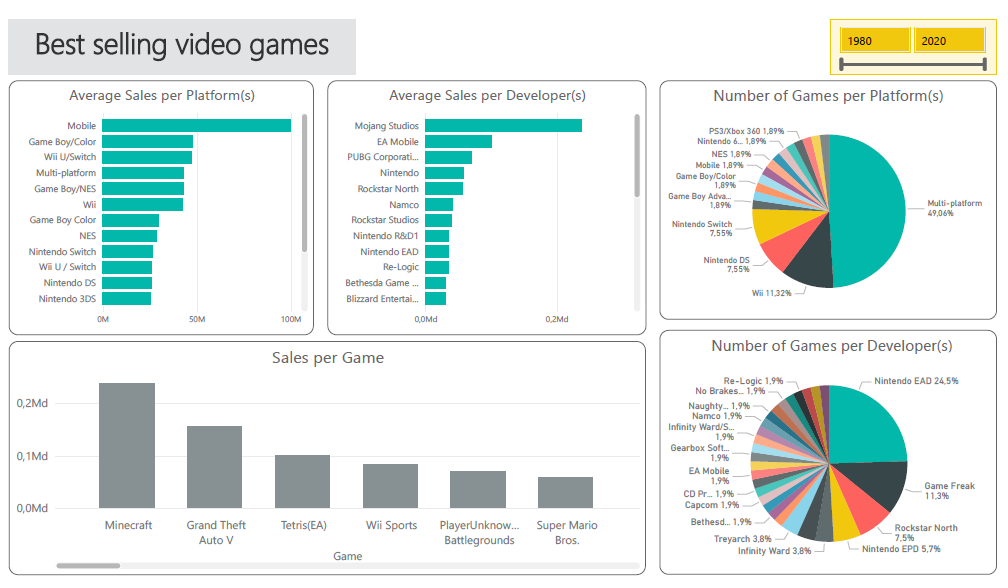

What the dashboard file says about the page in this screenshot:
{"tool":"powerbi","page":{"name":"Page 1","canvas":[1280,720],"ordinal":0},"visuals":[{"type":"clusteredColumnChart","title":"Sales per Game","fields":{"Y":["Sum(game_data_wiki.Sales)"],"Category":["game_data_wiki.Title"]},"box":[0,417,825.3,303],"z":0},{"type":"textbox","box":[0,0,448.7,72.1],"z":1000},{"type":"pieChart","title":"Number of Games per Platform(s)","fields":{"Y":["CountNonNull(game_data_wiki.Game)"],"Category":["game_data_wiki.Platform(s)"]},"box":[842.6,79.4,437.2,310.2],"z":2000},{"type":"clusteredBarChart","title":"Average Sales per Platform(s)","fields":{"Y":["Avg(game_data_wiki.Sales)"],"Category":["game_data_wiki.Platform(s)"]},"box":[0,79.4,395.4,330.4],"z":3000},{"type":"slicer","fields":{"Values":["game_data_wiki.Initial release date.Variation.Hiérarchie de dates.Année"]},"box":[1063.4,0,216.4,72.1],"z":4000},{"type":"clusteredBarChart","title":"Average Sales per Developer(s)","fields":{"Y":["Avg(game_data_wiki.Sales)"],"Category":["game_data_wiki.Developer(s)"]},"box":[412.7,79.4,412.7,330.4],"z":5000},{"type":"pieChart","title":"Number of Games per Developer(s)","fields":{"Y":["CountNonNull(game_data_wiki.Game)"],"Category":["game_data_wiki.Developer(s)"]},"box":[842.6,402.6,437.2,317.4],"z":6000}]}

Visuals, with their boxes in screenshot pixels (x1, y1, x2, y2):
"Sales per Game" clusteredColumnChart: [x1=3, y1=340, x2=644, y2=575]
textbox: [x1=3, y1=16, x2=351, y2=72]
"Number of Games per Platform(s)" pieChart: [x1=657, y1=77, x2=997, y2=318]
"Average Sales per Platform(s)" clusteredBarChart: [x1=3, y1=77, x2=310, y2=334]
slicer - game_data_wiki.Initial release date.Variation.Hiérarchie de dates.Année: [x1=828, y1=16, x2=997, y2=72]
"Average Sales per Developer(s)" clusteredBarChart: [x1=323, y1=77, x2=644, y2=334]
"Number of Games per Developer(s)" pieChart: [x1=657, y1=328, x2=997, y2=575]
